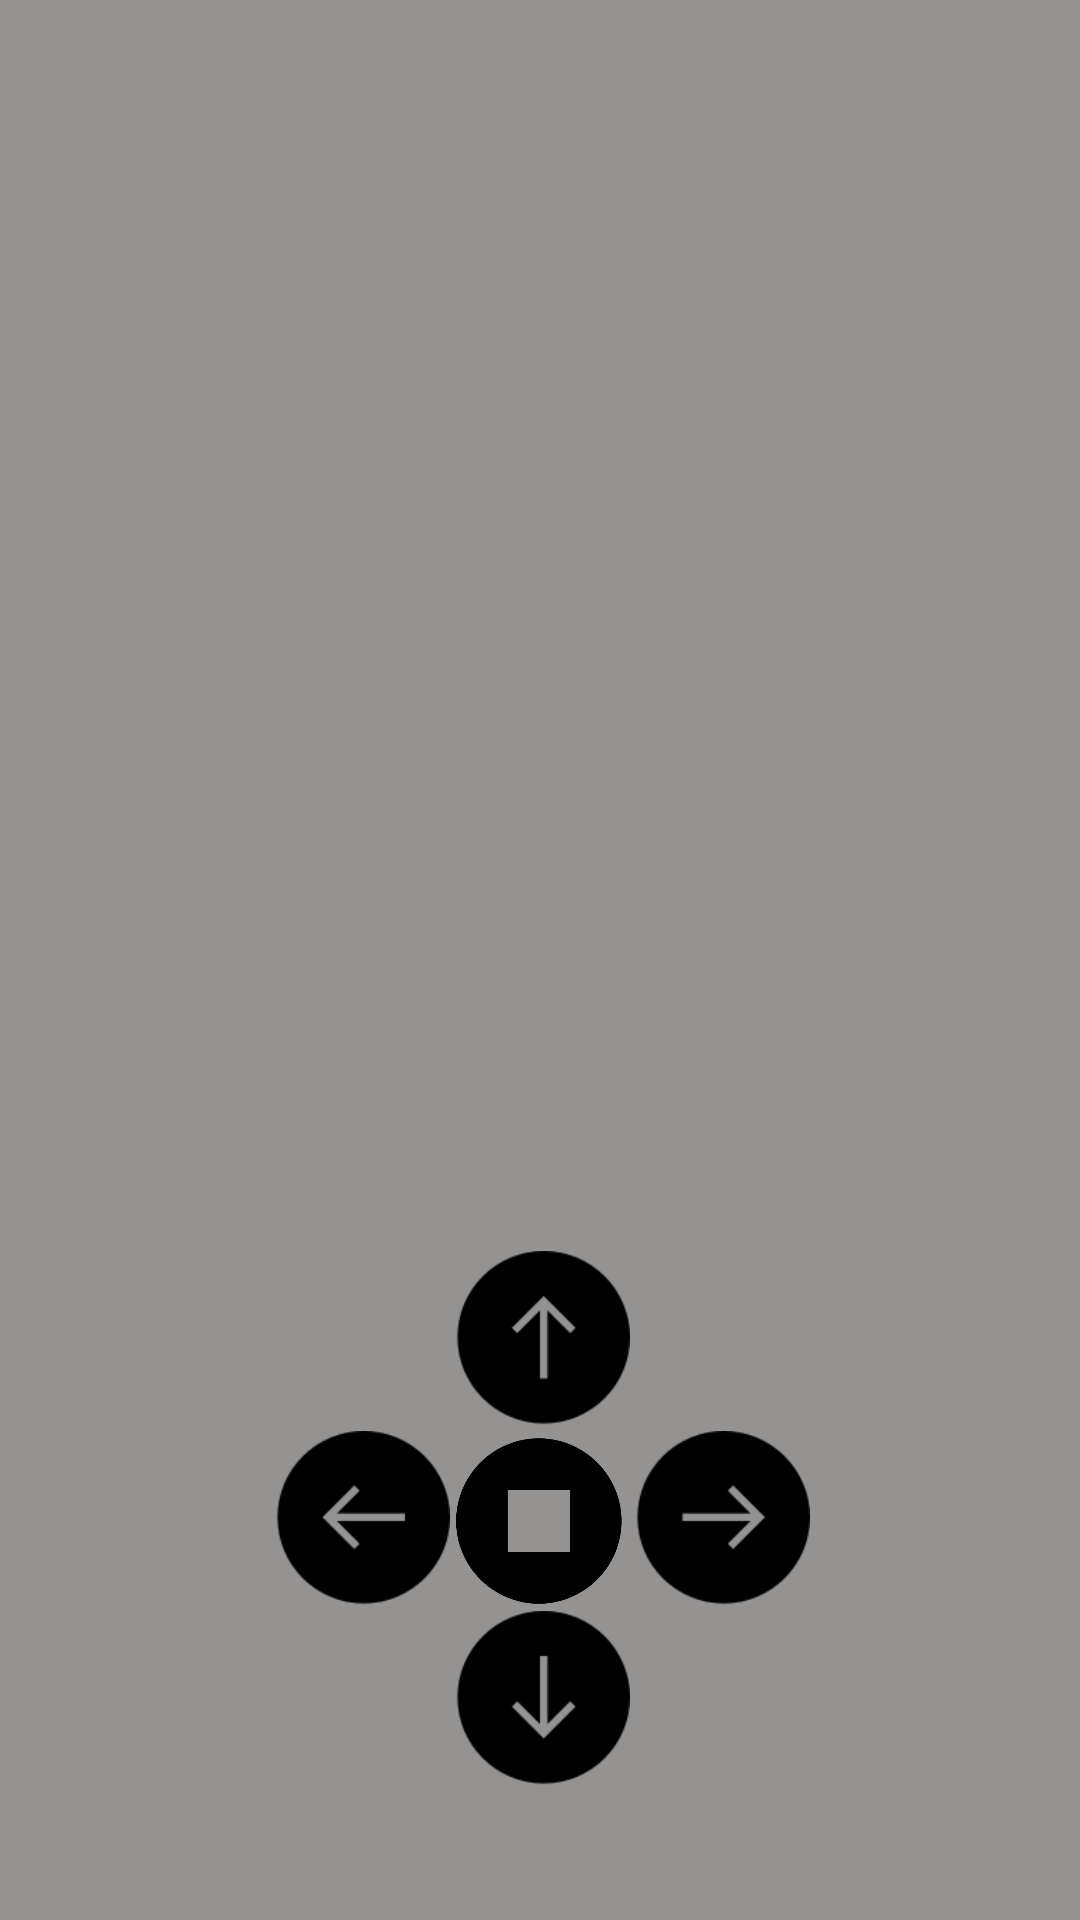

Named icons in this screenshot (1080×1920) and their centers, point (x, y):
down: point (543, 1697)
left: point (363, 1517)
right: point (723, 1517)
stop: point (539, 1521)
